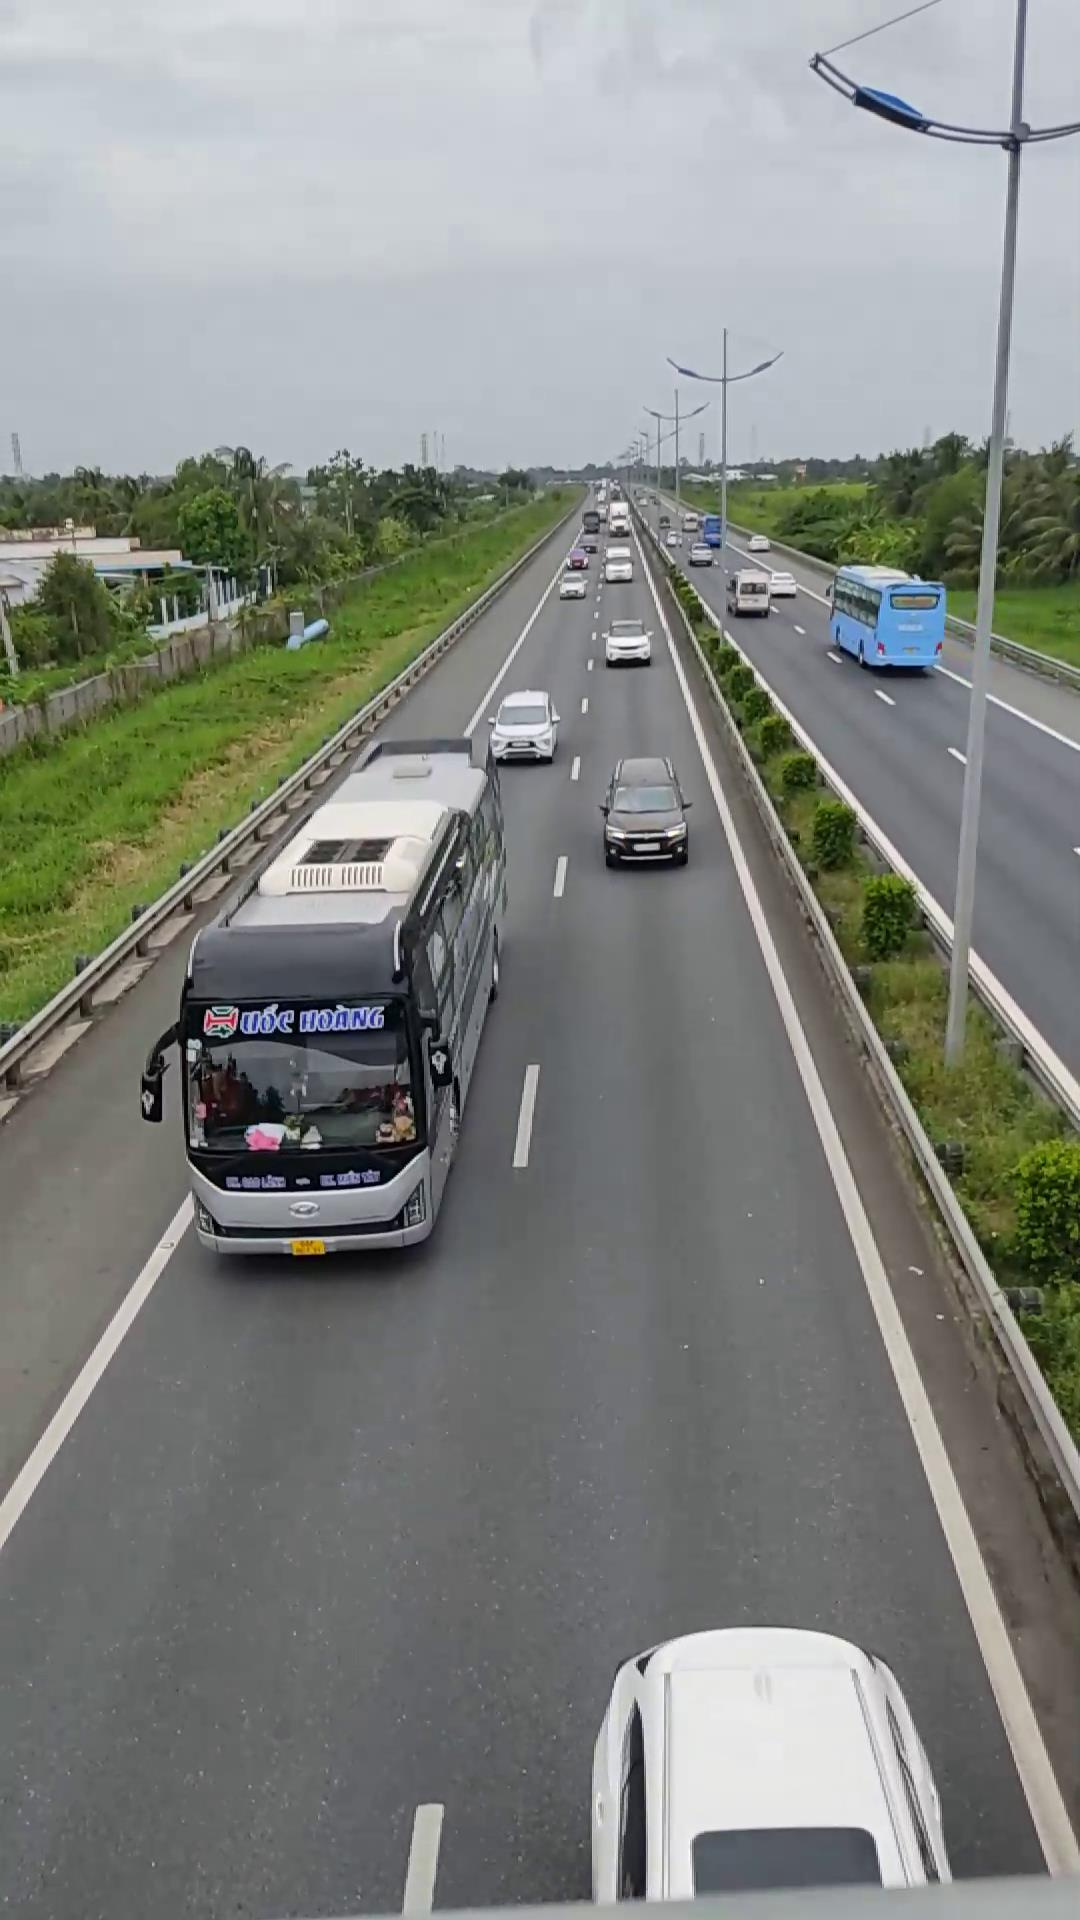bus: (156, 757, 512, 1258), (825, 562, 947, 673)
car: (578, 1623, 949, 1892), (597, 756, 692, 866), (483, 688, 560, 764)
